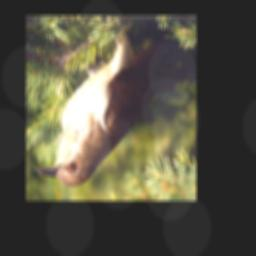Cuckoo: (35, 30, 190, 188)
